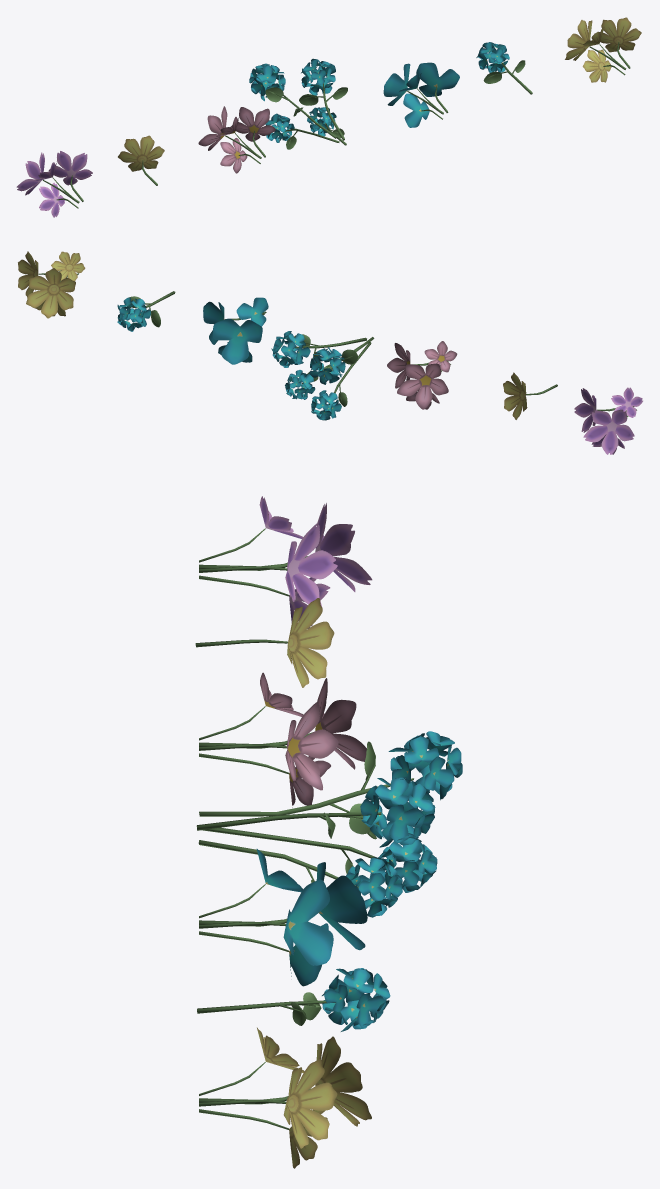
File: Flowerfix.fbx
The picture shows the model from 3 angles, top to bottom: view 1: azimuth 30°, elevation 25°; view 2: azimuth 150°, elevation 25°; view 3: azimuth 270°, elevation 25°; orthographic projection. The views are drawn at different scales.
Parts seen in each view (by area): view 1: Flower_1_Clump, Flower_2_Clump, Flower_3_Clump, Flower_4_Clump, Flower_5_Clump, Flower_1, Flower_2; view 2: Flower_1_Clump, Flower_2_Clump, Flower_3_Clump, Flower_4_Clump, Flower_5_Clump, Flower_1, Flower_2; view 3: Flower_1_Clump, Flower_2_Clump, Flower_3_Clump, Flower_4_Clump, Flower_5_Clump, Flower_1, Flower_2.
Boxes of the visible parts, left/top/right/bottom form: Flower_1_Clump: left=249, top=58, right=347, bottom=149; Flower_2_Clump: left=565, top=17, right=641, bottom=82; Flower_3_Clump: left=383, top=62, right=459, bottom=127; Flower_4_Clump: left=198, top=106, right=275, bottom=173; Flower_5_Clump: left=16, top=151, right=92, bottom=217; Flower_1: left=476, top=42, right=532, bottom=94; Flower_2: left=118, top=135, right=164, bottom=185; Flower_1_Clump: left=271, top=331, right=374, bottom=420; Flower_2_Clump: left=18, top=251, right=85, bottom=318; Flower_3_Clump: left=203, top=297, right=268, bottom=364; Flower_4_Clump: left=387, top=341, right=457, bottom=409; Flower_5_Clump: left=574, top=387, right=642, bottom=454; Flower_1: left=117, top=291, right=175, bottom=331; Flower_2: left=503, top=372, right=557, bottom=419; Flower_1_Clump: left=196, top=731, right=462, bottom=917; Flower_2_Clump: left=199, top=1027, right=371, bottom=1168; Flower_3_Clump: left=199, top=849, right=367, bottom=986; Flower_4_Clump: left=199, top=672, right=366, bottom=807; Flower_5_Clump: left=199, top=496, right=372, bottom=628; Flower_1: left=197, top=968, right=390, bottom=1031; Flower_2: left=195, top=598, right=334, bottom=687.
Size of the model in its own units: 359 by 43.52 by 67.42.
